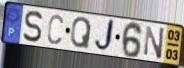6: (121, 20, 144, 59)
C: (46, 13, 64, 46)
J: (93, 18, 116, 54)
N: (143, 25, 166, 61)
Q: (69, 16, 93, 50)
S: (22, 10, 44, 44)
